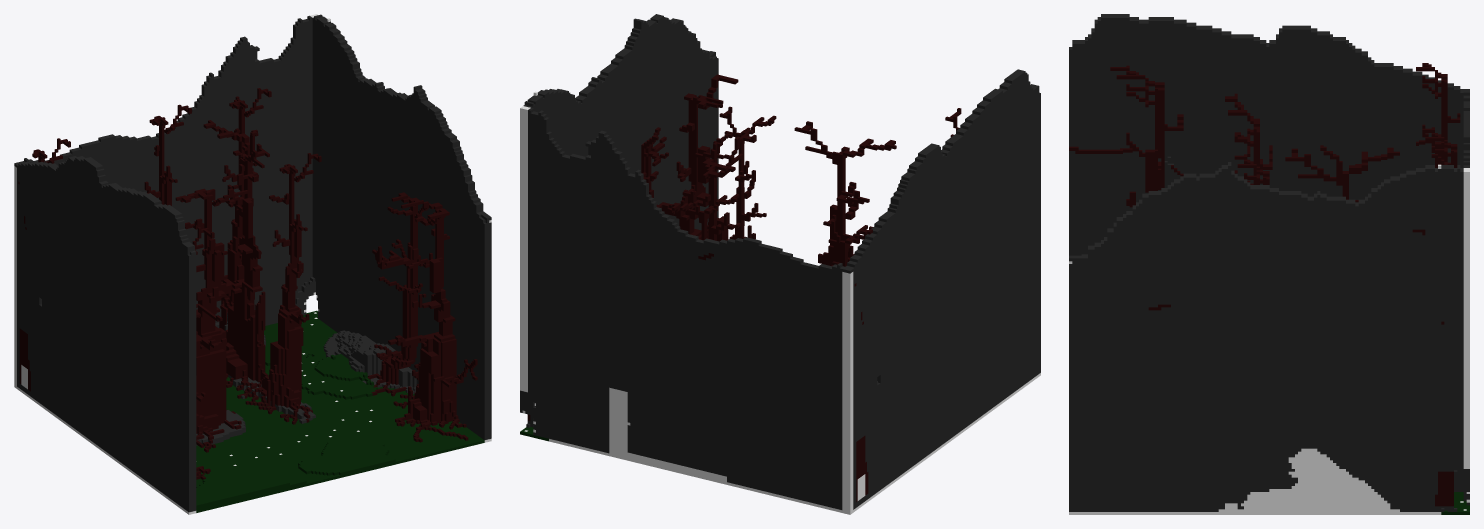
File: trial1.FBX
3 renders of one model, left to right at view 1: azimuth 30°, elevation 25°; view 2: azimuth 150°, elevation 25°; view 3: azimuth 270°, elevation 25°, orthographic. The views are drawn at different scales.
Visible parts, largest first — view 1: Trial1; view 2: Trial1; view 3: Trial1.
Part boxes in pixels (x1,y1,x2,y2): Trial1: (14, 14, 491, 514); Trial1: (520, 14, 1040, 514); Trial1: (1069, 14, 1469, 514).
Bounding box in the file's own units: 126 × 121 × 126.
1 material, 1 textured.
